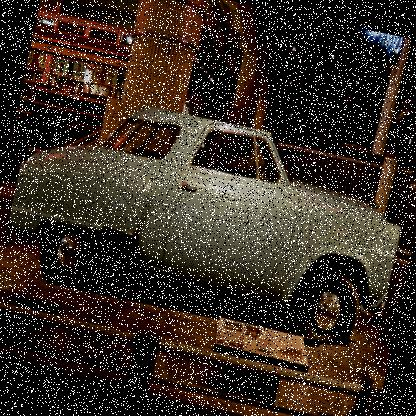Car: (0, 82, 415, 354)
